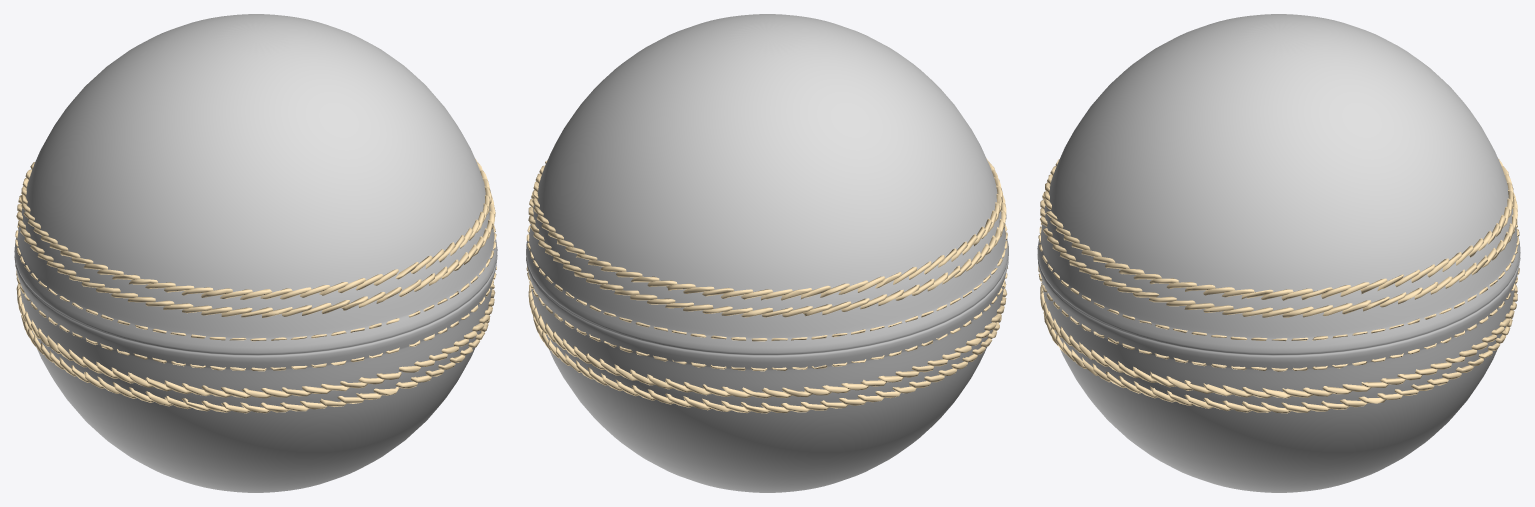
Rendered from ball.glb.
3 views of the same model, side by side, from view 1: azimuth 30°, elevation 25°; view 2: azimuth 150°, elevation 25°; view 3: azimuth 270°, elevation 25° (orthographic).
Visible parts, largest first — view 1: leather, stitches; view 2: leather, stitches; view 3: leather, stitches.
Part boxes in pixels (x1,y1,x2,y2): leather: (14,14,497,492); stitches: (15,158,496,413); leather: (526,14,1008,492); stitches: (526,158,1007,413); leather: (1037,14,1520,492); stitches: (1038,158,1519,413).
Bounding box in the file's own units: 2.02 × 2.01 × 2.02.
